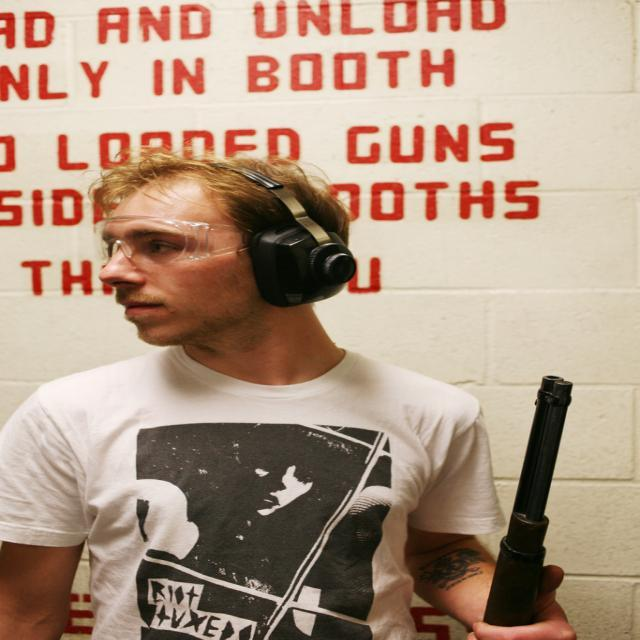weapon: (478, 373, 572, 625)
